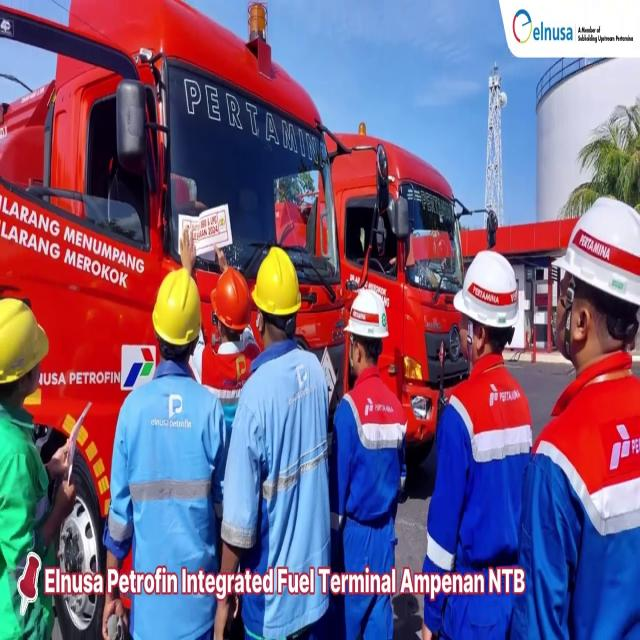Hardhat: (549, 195, 640, 297), (453, 251, 522, 319), (0, 298, 50, 382), (151, 270, 200, 344), (250, 248, 304, 310), (208, 265, 252, 333), (342, 290, 392, 335)
No Glove: (44, 481, 74, 533), (212, 593, 238, 640), (102, 595, 127, 640), (45, 444, 70, 476), (180, 229, 197, 270), (215, 247, 230, 269)
Overall Suit: (516, 355, 640, 640), (424, 355, 534, 640), (329, 368, 407, 640)
Strapped: (563, 276, 574, 361), (466, 320, 474, 364), (349, 334, 355, 365)
